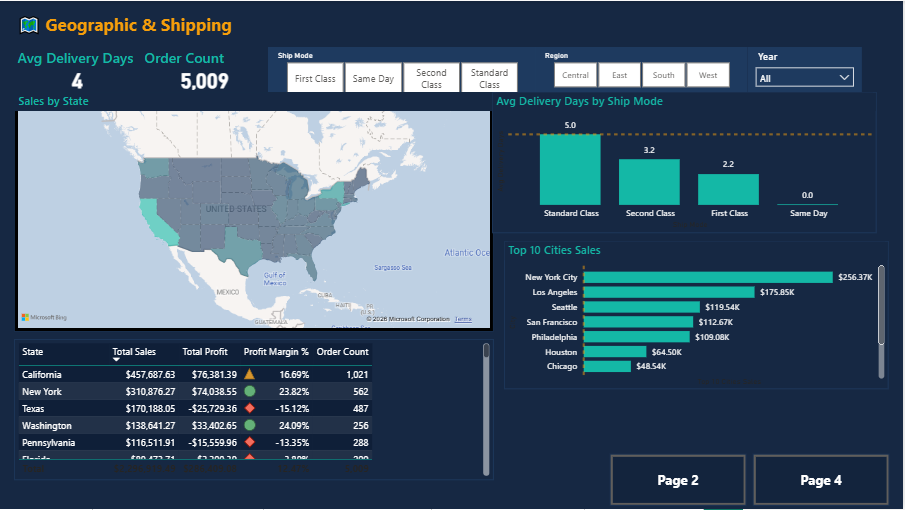

This screenshot's page, from the dashboard's own definition file:
{"tool":"powerbi","page":{"name":"Geographic & Shipping","canvas":[1280,720],"ordinal":2},"visuals":[{"type":"textbox","box":[20.5,12,599.8,53],"z":0},{"type":"slicer","fields":{"Values":["Superstore.Region"]},"box":[758.8,64.9,300.8,64.9],"z":1000},{"type":"slicer","fields":{"Values":["Superstore.Ship Mode"]},"box":[379.4,64.9,379.4,64.9],"z":2000},{"type":"slicer","fields":{"Values":["DateTable.Year"]},"box":[1059.5,64.9,160.6,64.9],"z":3000},{"type":"card","title":"Avg Delivery Days","fields":{"Values":["Superstore.Avg Delivery Days"]},"box":[20.5,64.9,179.4,64.9],"z":4000},{"type":"card","title":"Order Count","fields":{"Values":["Superstore.Order Count"]},"box":[199.9,64.9,179.4,64.9],"z":5000},{"type":"filledMap","title":"Sales by State","fields":{"Category":["Superstore.State"]},"box":[20,128.7,680,340],"z":6000},{"type":"clusteredColumnChart","fields":{"Category":["Superstore.Ship Mode"],"Y":["Superstore.Avg Delivery Days"]},"box":[697.2,128.7,545,200],"z":7000},{"type":"clusteredBarChart","title":"Top 10 Cities Sales ","fields":{"Category":["Superstore.City"],"Y":["Superstore.Top 10 Cities Sales"]},"box":[715,340,545,210],"z":8000},{"type":"tableEx","fields":{"Values":["Superstore.State","Superstore.Total Sales","Superstore.Total Profit","Superstore.Profit Margin %","Superstore.Order Count"]},"box":[20,479,680,200],"z":9000},{"type":"actionButton","title":"Page 1","box":[865.3,641.8,193.3,73.3],"z":10000},{"type":"actionButton","title":"Page 1","box":[1067.3,641.8,193.3,73.3],"z":11000}]}

Visuals, with their boxes in screenshot pixels (x1, y1, x2, y2), scaled from the page's 1280x720 canvas onto the 905x510 screenshot:
textbox: <box>14,8,439,46</box>
slicer - Superstore.Region: <box>536,46,749,92</box>
slicer - Superstore.Ship Mode: <box>268,46,536,92</box>
slicer - DateTable.Year: <box>749,46,863,92</box>
"Avg Delivery Days" card: <box>14,46,141,92</box>
"Order Count" card: <box>141,46,268,92</box>
"Sales by State" filledMap: <box>14,91,495,332</box>
clusteredColumnChart - Superstore.Ship Mode x Superstore.Avg Delivery Days: <box>493,91,878,233</box>
"Top 10 Cities Sales " clusteredBarChart: <box>506,241,891,390</box>
tableEx - Superstore.State x Superstore.Total Sales: <box>14,339,495,481</box>
"Page 1" actionButton: <box>612,455,748,507</box>
"Page 1" actionButton: <box>755,455,891,507</box>
